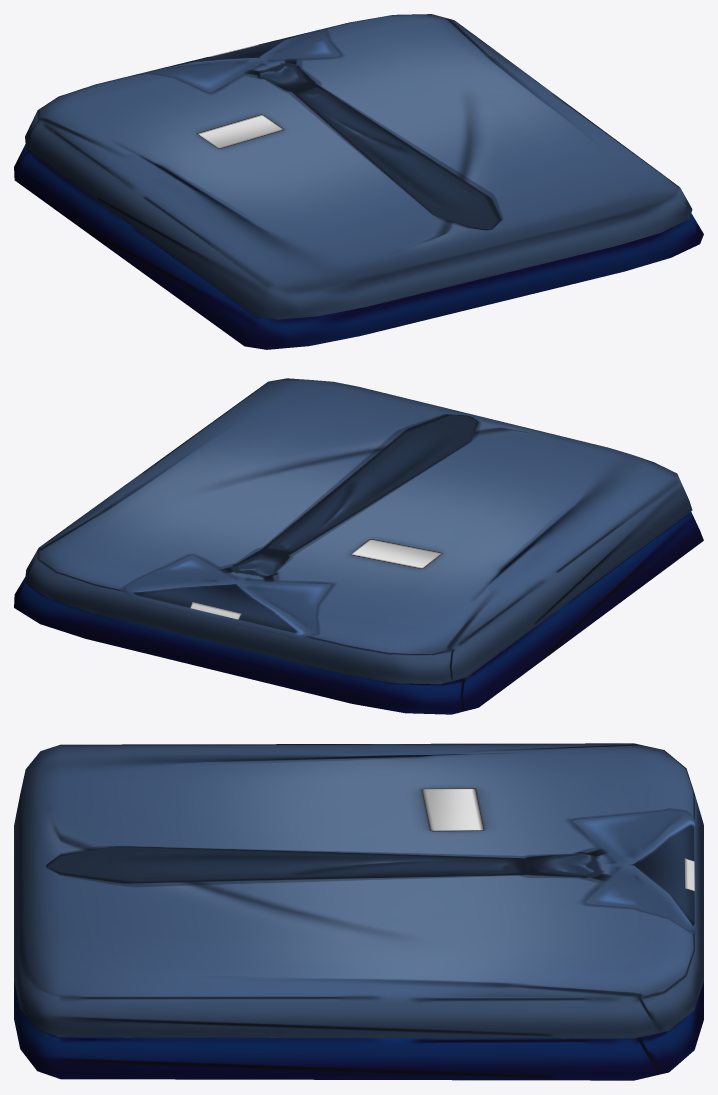
File: Cloth0.FBX
3 renders of one model, top to bottom at view 1: azimuth 30°, elevation 25°; view 2: azimuth 150°, elevation 25°; view 3: azimuth 270°, elevation 25°, orthographic. The views are drawn at different scales.
Visible parts, largest first — view 1: ChamferBox008, ChamferBox007; view 2: ChamferBox008, ChamferBox007; view 3: ChamferBox008, ChamferBox007.
Boxes of the visible parts, x1,y1,x2,y2 form: ChamferBox008: (25,14,692,319); ChamferBox007: (14,144,703,349); ChamferBox008: (25,378,692,684); ChamferBox007: (14,511,703,714); ChamferBox008: (14,743,703,1038); ChamferBox007: (14,981,703,1080).
Size of the model in its own units: 16.08 by 2.11 by 16.42.
2 materials, 2 textured.
